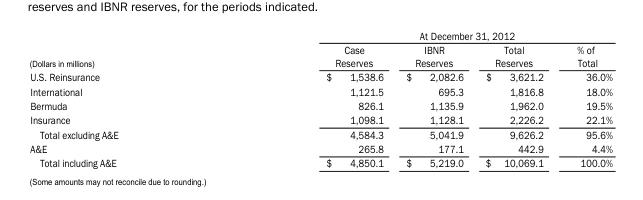table: (28, 29, 611, 168)
table column: (28, 29, 221, 168), (221, 29, 394, 168), (473, 29, 559, 168), (394, 29, 473, 168), (559, 29, 611, 168)
table column header: (28, 29, 611, 69)
table row: (28, 42, 611, 69), (28, 97, 611, 112), (28, 126, 611, 141), (28, 69, 611, 83), (28, 83, 611, 97), (28, 112, 611, 126), (28, 141, 611, 155), (28, 29, 611, 42), (28, 155, 611, 168)
table spanning cell: (28, 29, 221, 69), (221, 29, 611, 42)
